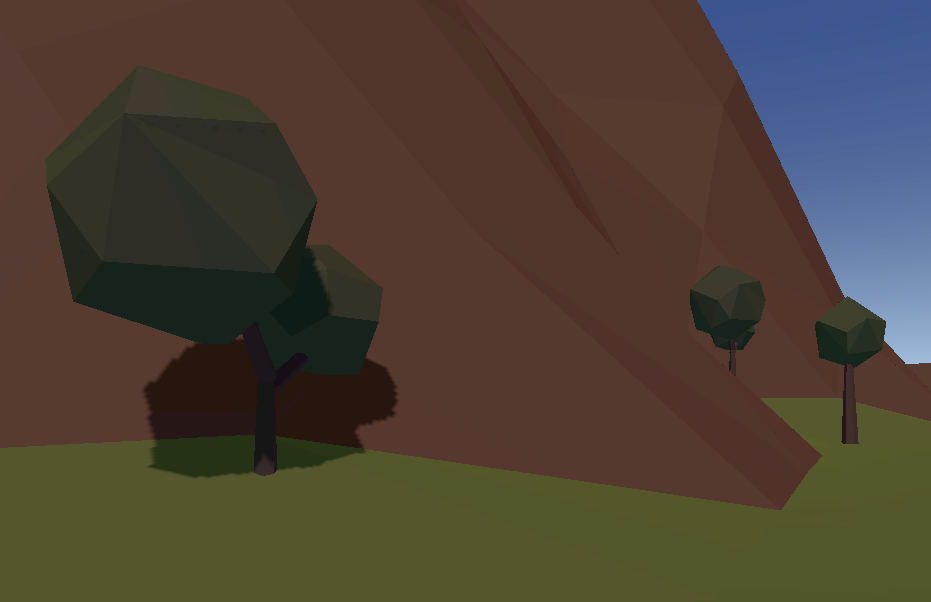tree: (44, 64, 384, 481), (811, 293, 888, 446), (683, 263, 771, 379)
